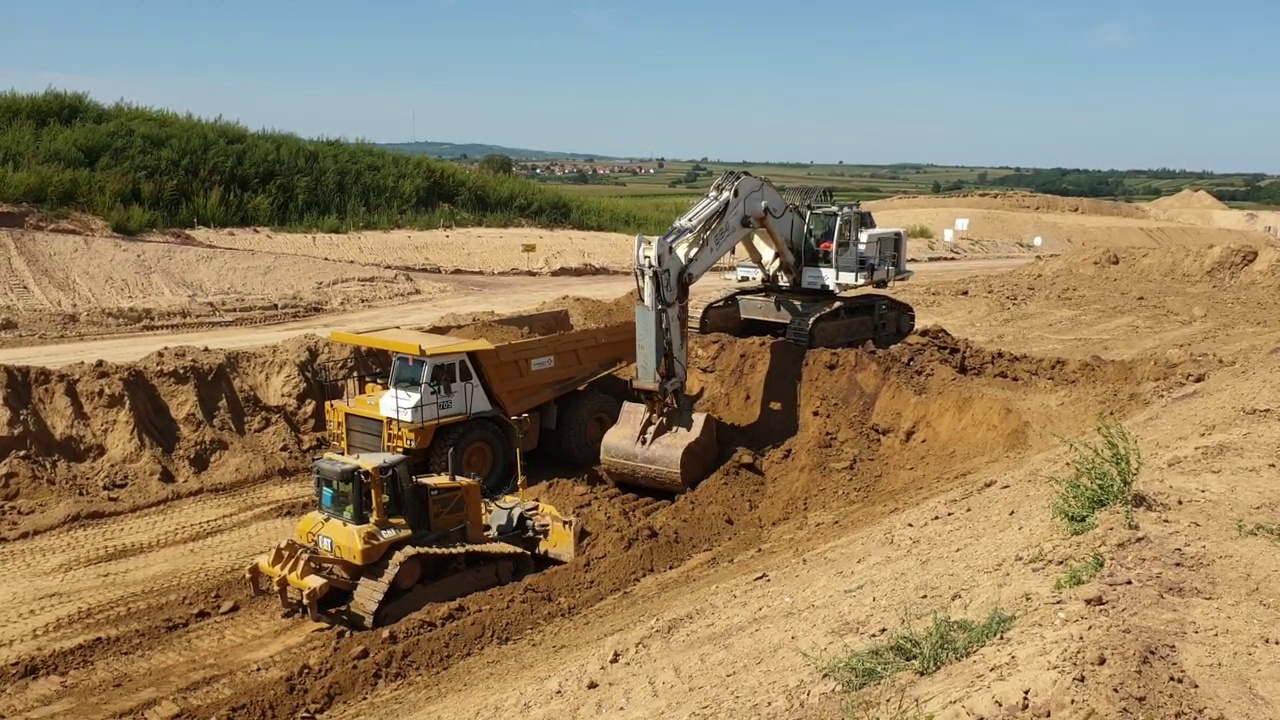bulldozer: (246, 409, 584, 641)
excavator: (594, 165, 923, 503)
truck: (312, 296, 660, 510)
